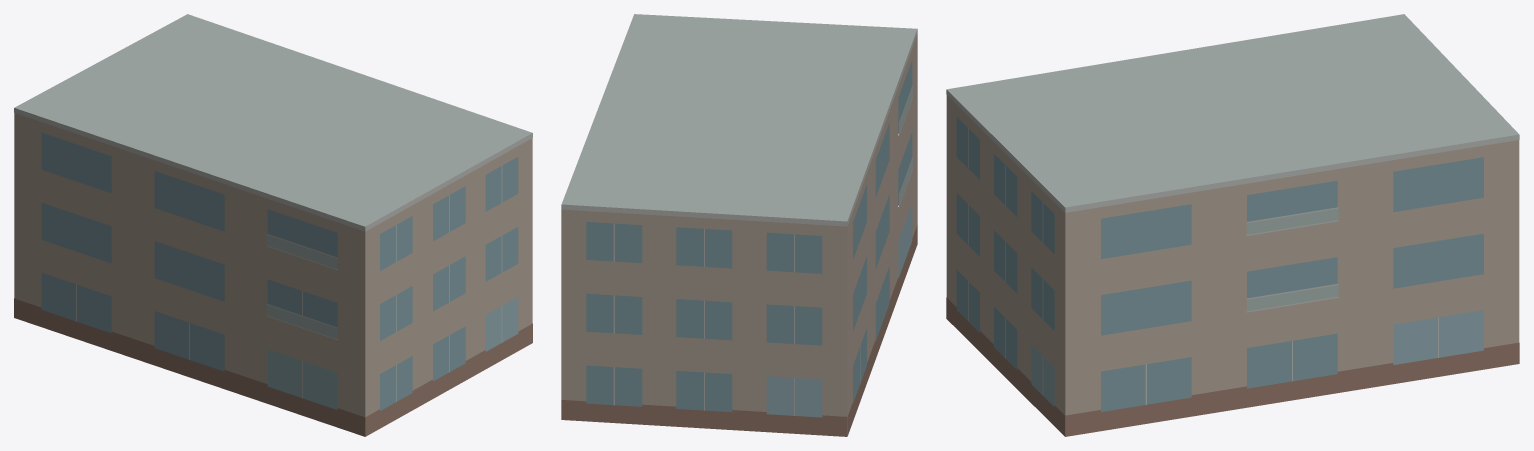
The model's file is survey-upis-32833300.glb.
The picture shows the model from 3 angles, left to right: view 1: azimuth 30°, elevation 25°; view 2: azimuth 150°, elevation 25°; view 3: azimuth 270°, elevation 25°; orthographic projection. The views are drawn at different scales.
Visible parts, largest first — view 1: survey-upis-32833300.tmp; view 2: survey-upis-32833300.tmp; view 3: survey-upis-32833300.tmp.
Boxes of the visible parts, x1,y1,x2,y2 form: survey-upis-32833300.tmp: [14, 14, 532, 436]; survey-upis-32833300.tmp: [561, 14, 917, 436]; survey-upis-32833300.tmp: [946, 14, 1519, 436].
Bounding box in the file's own units: 18.83 × 10.4 × 23.56.
